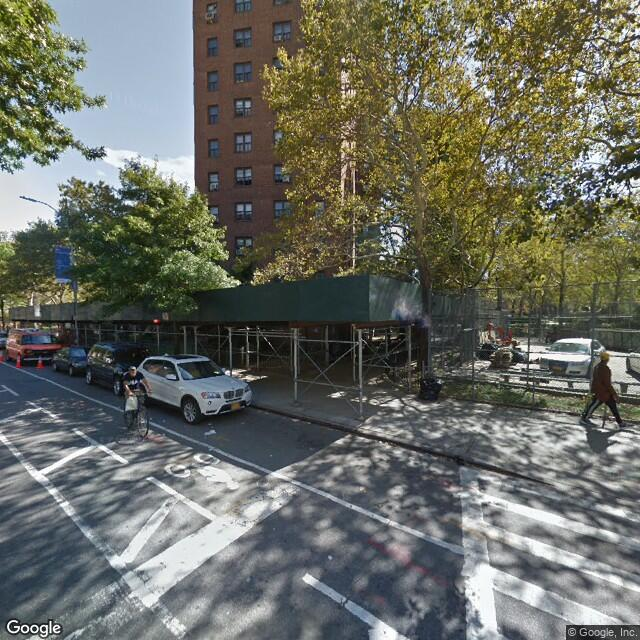litter: (199, 425, 220, 441)
